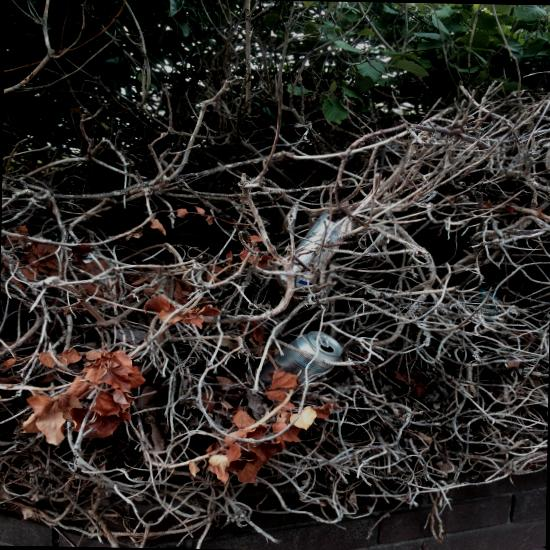Drink can: (280, 212, 358, 290), (259, 330, 342, 387)
Pop tab: (318, 334, 329, 347)
